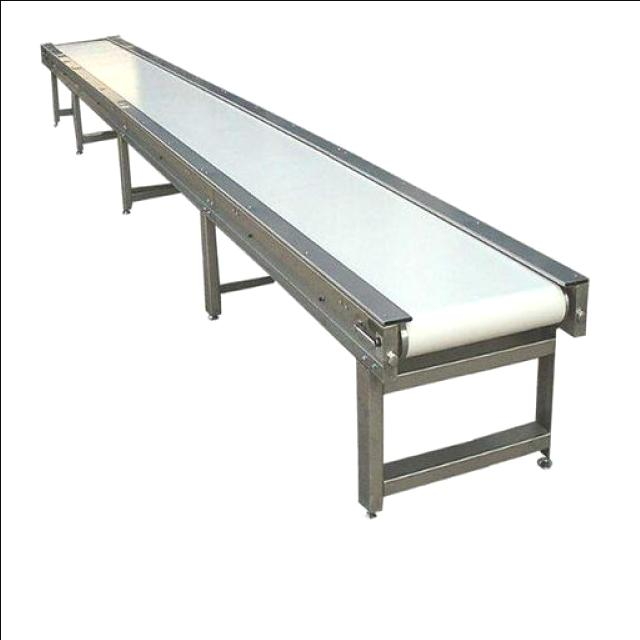conveyor: (46, 33, 572, 354)
